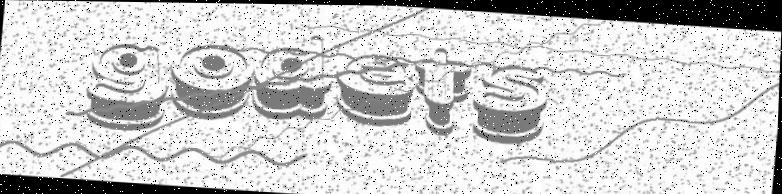d: (247, 27, 336, 123)
e: (332, 47, 418, 128)
g: (83, 36, 174, 132)
o: (168, 35, 257, 122)
s: (470, 58, 552, 148)
t: (407, 41, 477, 137)
